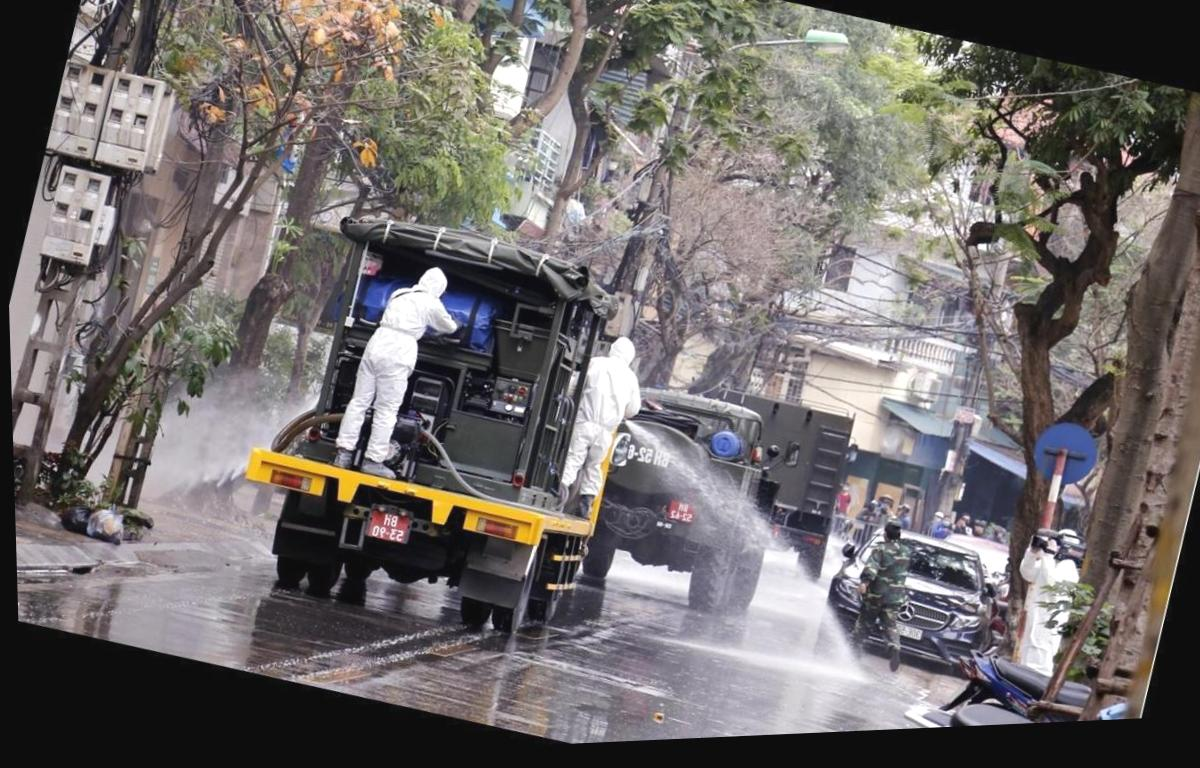License_Plate: (364, 510, 413, 547), (665, 492, 697, 526)
